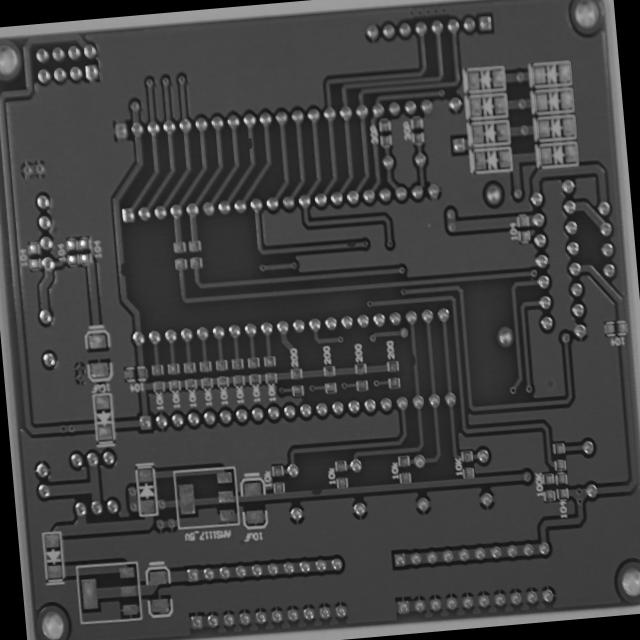mouse_bite: (115, 258, 128, 280), (306, 484, 326, 498), (243, 134, 256, 152), (342, 238, 358, 250), (408, 351, 419, 368)
